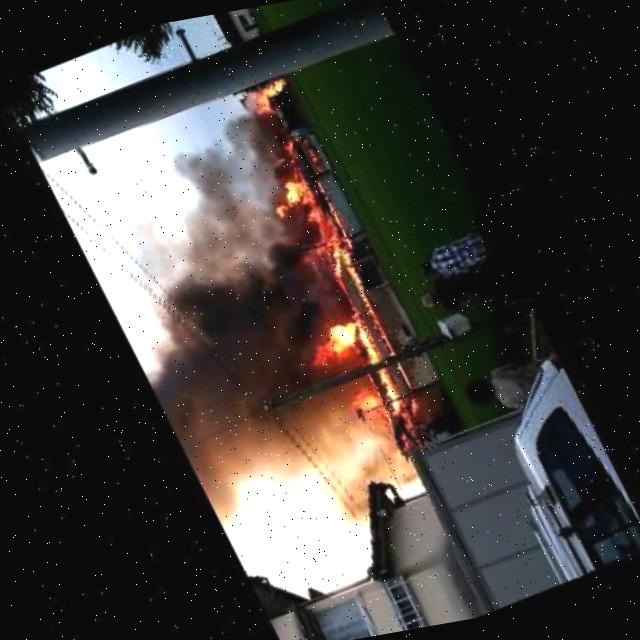fire: (337, 249, 411, 399), (371, 396, 437, 469), (267, 137, 308, 219), (312, 175, 352, 257), (311, 311, 370, 365), (248, 76, 295, 117), (328, 279, 352, 316)
